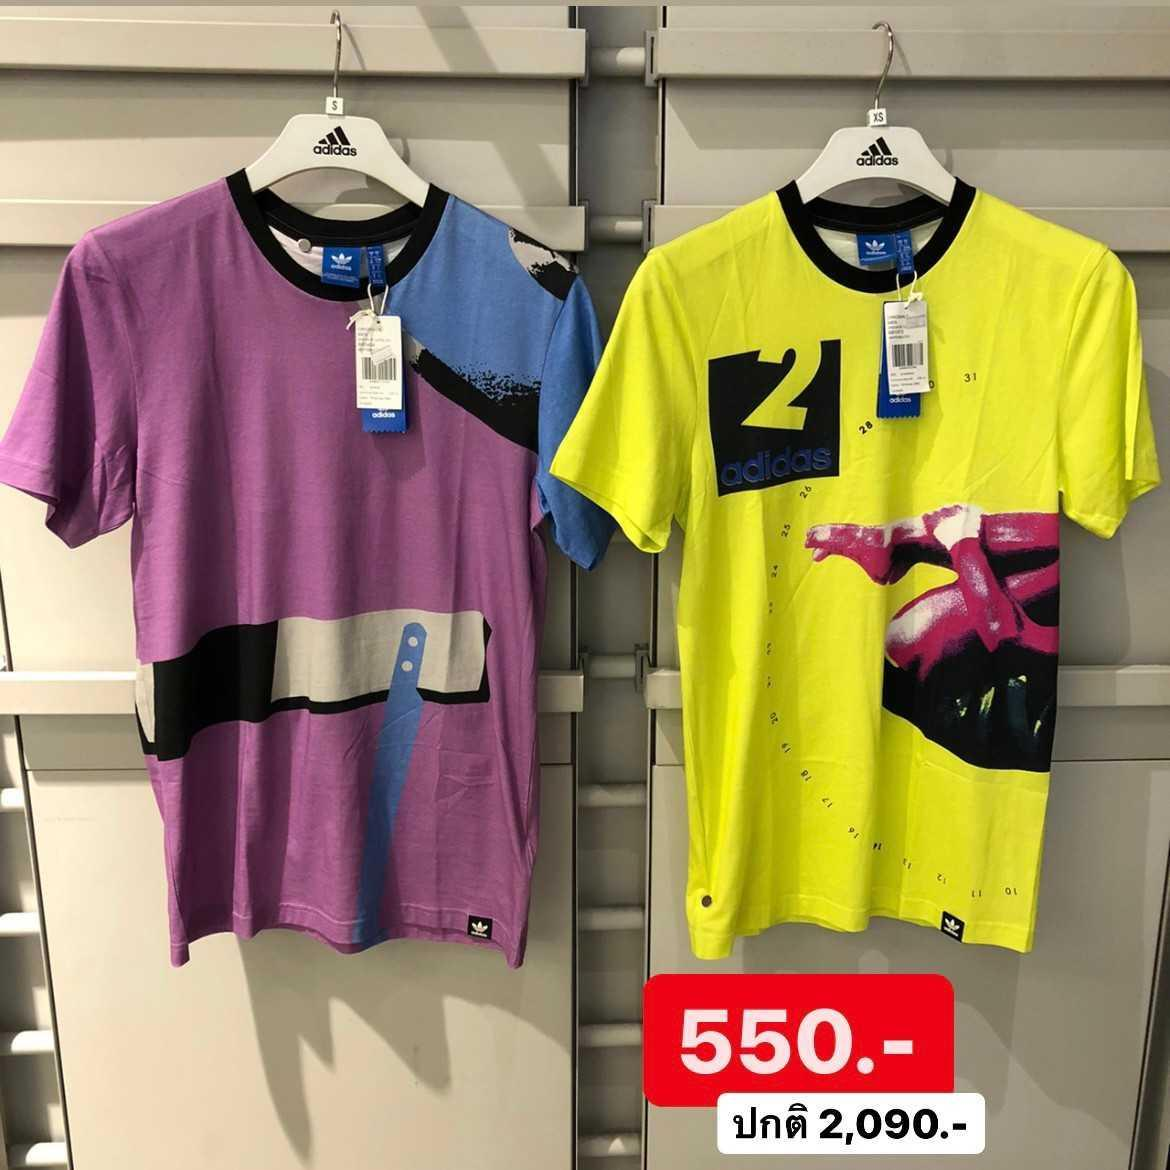Tshirt: (22, 172, 629, 990), (597, 166, 1159, 965)
